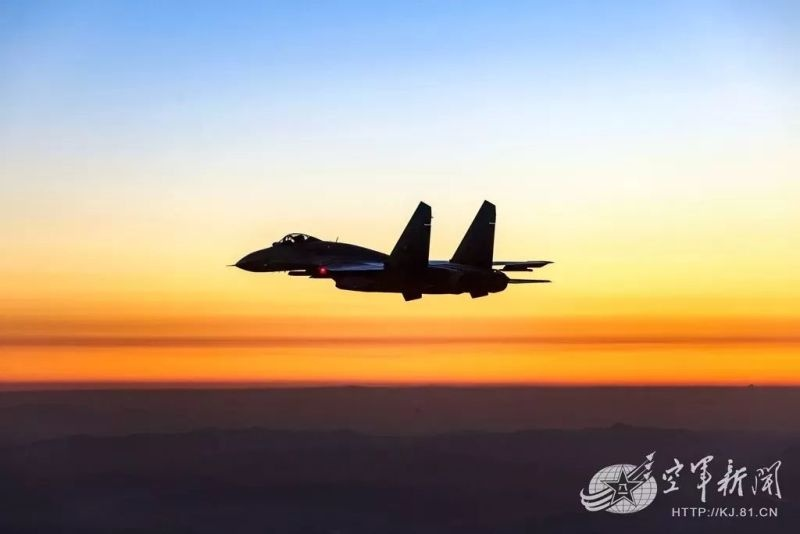airplane: (224, 198, 557, 304)
